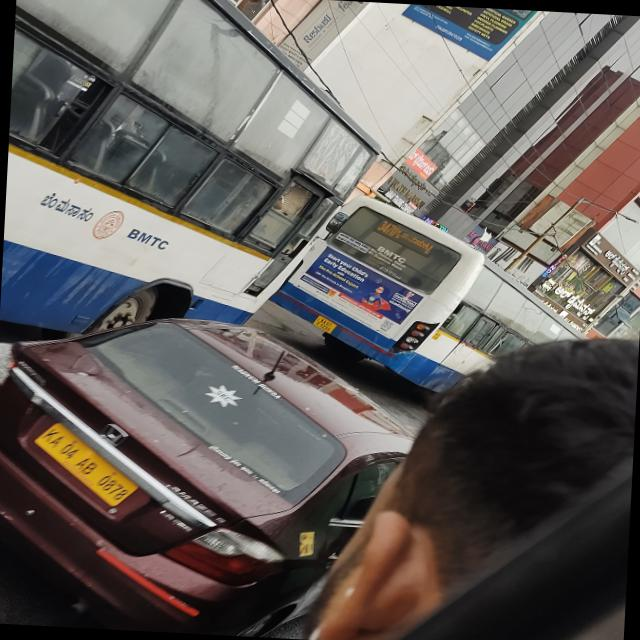bus: (0, 0, 373, 353), (250, 161, 640, 402)
display: (372, 214, 442, 257)
dnumber: (377, 218, 400, 238)
